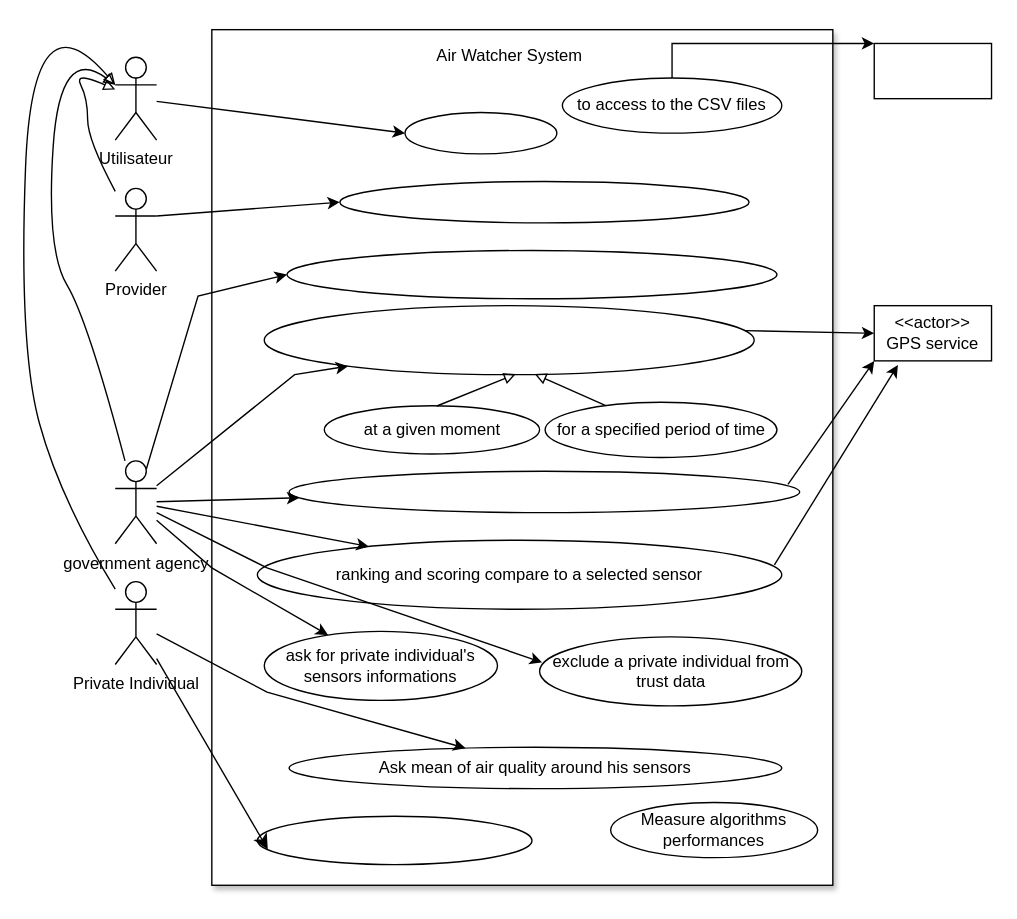
Some shapes in this 1017 by 919 pixel diagram are drawn without their labels. The shapes that lost their labels are listed below. From the top down, each one's centre as x and y in pixels, then its label:
point (932, 70): <<actor>> central server (CSV files)
point (480, 132): connect
point (544, 201): Analyze the efficiency of an air cleaner
point (531, 274): Identify a malicious personal user
point (508, 339): Ask mean of air quality in a determined circular zone
point (544, 491): Ask air quality at a given moment at a precise position
point (394, 840): See fidelity points
